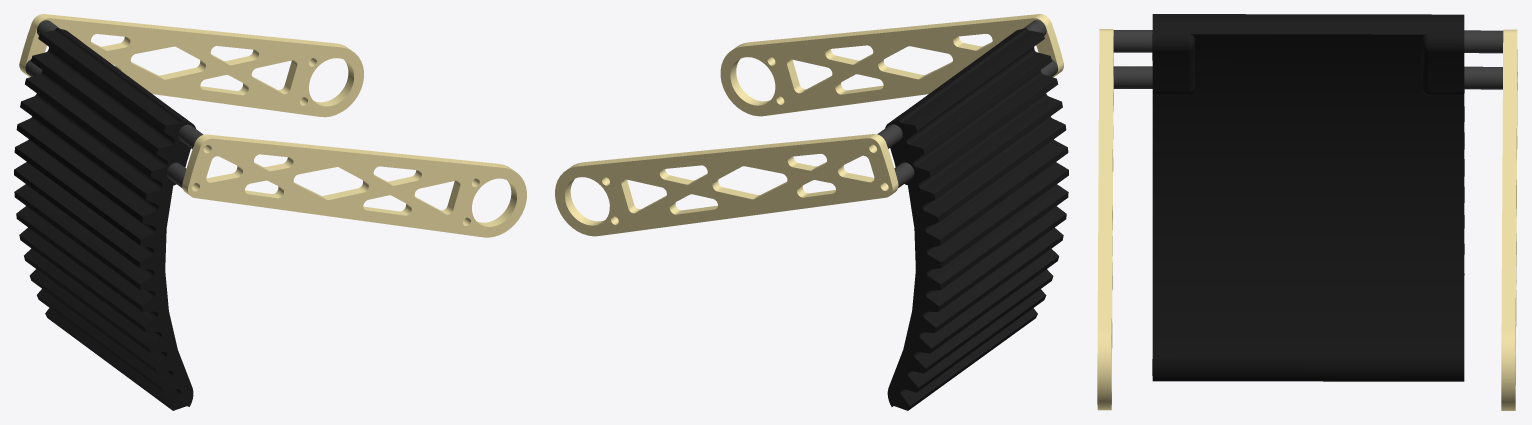
3 renders of one model, left to right at view 1: azimuth 30°, elevation 25°; view 2: azimuth 150°, elevation 25°; view 3: azimuth 270°, elevation 25°, orthographic. The views are drawn at different scales.
Visible parts, largest first — view 1: hood 2 v12:1, hood bar:1 (×2); view 2: hood 2 v12:1, hood bar:1 (×2); view 3: hood 2 v12:1, hood bar:1 (×2), custom hood spacer v8:2, custom hood spacer v8:3, custom hood spacer v8:4, custom hood spacer v8:1.
Boxes of the visible parts, x1=… form: hood 2 v12:1: x1=14, y1=28, x2=195, y2=410; hood bar:1 (×2): x1=19, y1=14, x2=526, y2=237; hood 2 v12:1: x1=885, y1=28, x2=1068, y2=410; hood bar:1 (×2): x1=555, y1=14, x2=1063, y2=236; hood 2 v12:1: x1=1152, y1=14, x2=1464, y2=381; hood bar:1 (×2): x1=1097, y1=29, x2=1517, y2=410; custom hood spacer v8:2: x1=1464, y1=30, x2=1503, y2=53; custom hood spacer v8:3: x1=1113, y1=30, x2=1152, y2=52; custom hood spacer v8:4: x1=1113, y1=66, x2=1152, y2=88; custom hood spacer v8:1: x1=1464, y1=66, x2=1502, y2=89.
Size of the model in its own units: 0.233 by 0.1753 by 0.1882.
